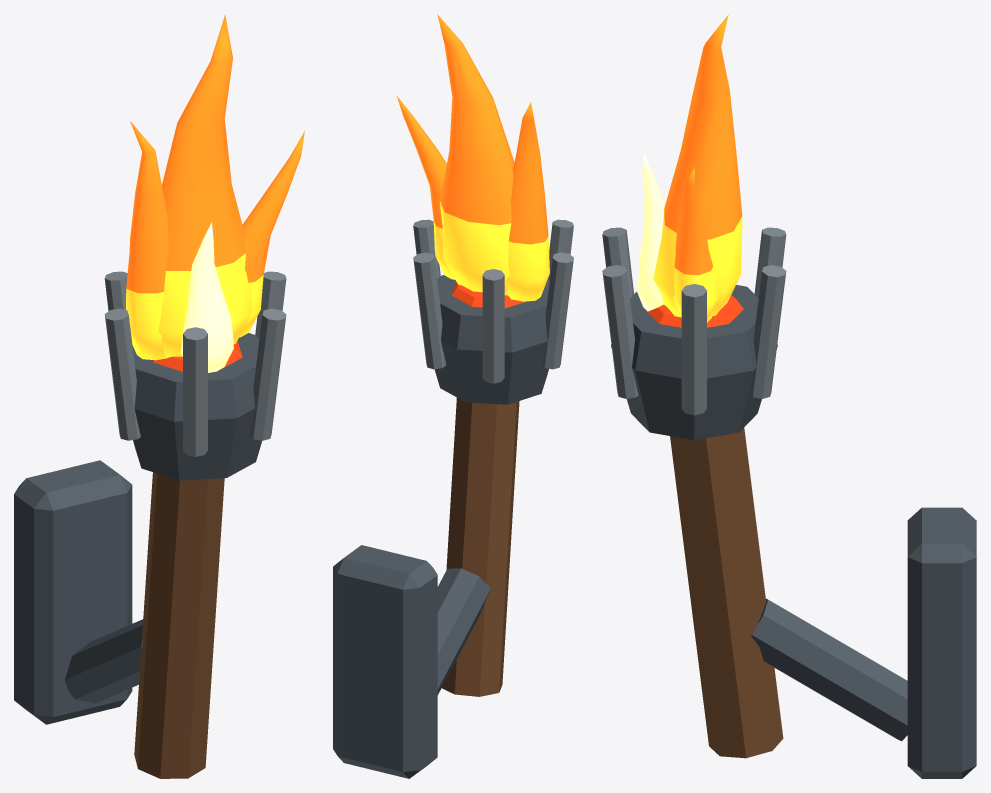
File: PROP_06_WallTorch.glb
3 views of the same model, side by side, from view 1: azimuth 30°, elevation 25°; view 2: azimuth 150°, elevation 25°; view 3: azimuth 270°, elevation 25° (orthographic). The views are drawn at different scales.
Visible parts, largest first — view 1: PROP_06_WallTorch; view 2: PROP_06_WallTorch; view 3: PROP_06_WallTorch.
Boxes of the visible parts, box(x1,y1,x2,y2) form: PROP_06_WallTorch: box(14, 14, 304, 778); PROP_06_WallTorch: box(333, 14, 573, 778); PROP_06_WallTorch: box(602, 14, 976, 778).
Size of the model in its own units: 0.4042 by 1.47 by 0.6497.
